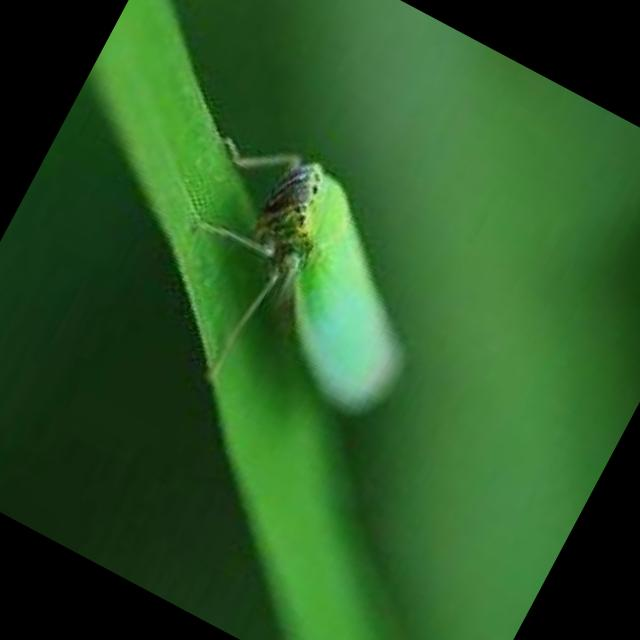green-leafhopper: (168, 140, 466, 441)
